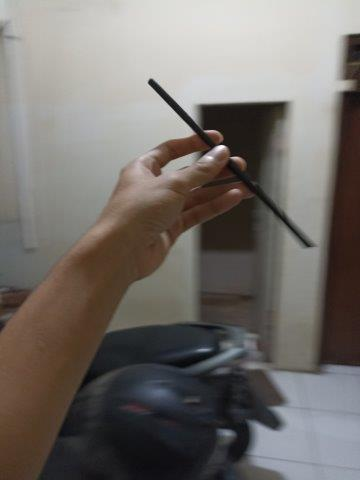sedotan: (150, 81, 311, 247)
